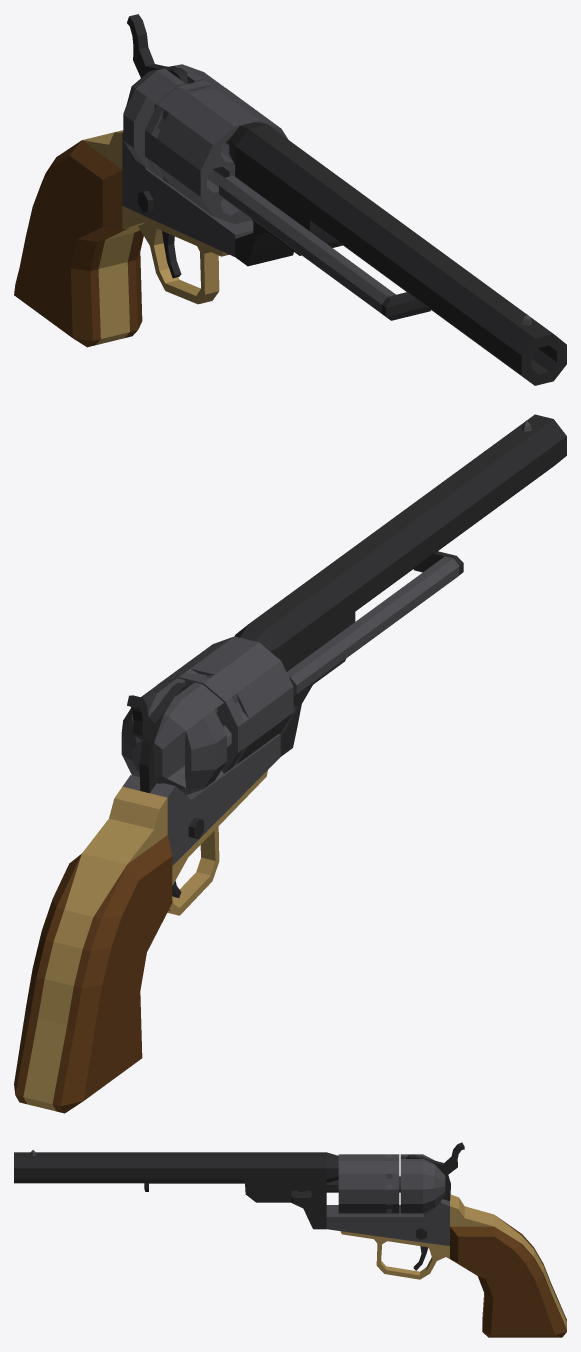
File: Navy.fbx
3 renders of one model, top to bottom at view 1: azimuth 30°, elevation 25°; view 2: azimuth 150°, elevation 25°; view 3: azimuth 270°, elevation 25°, orthographic. The views are drawn at different scales.
Parts seen in each view (by area): view 1: Grip, Barrel1, Cylinder, Barrel2, Rod, Assembly 1, Backstrap, Trigger Guard, Shield 2, Hammer, Trigger Guard 2, Stud (+3 smaller); view 2: Grip, Barrel1, Backstrap, Cylinder, Barrel2, Assembly 1, Rod, Shield 1, Shield 2, Hammer, Trigger Guard; view 3: Grip, Barrel1, Barrel2, Cylinder, Assembly 1, Backstrap, Shield 1, Trigger Guard, Shield 3, Hammer, Trigger Guard 2, Barrel3 (+1 smaller).
Boxes of the visible parts, <box> form: Grip: <box>14,140,143,347</box>; Barrel1: <box>310,179,566,385</box>; Cylinder: <box>145,80,288,224</box>; Barrel2: <box>235,124,342,266</box>; Rod: <box>219,175,395,315</box>; Assembly 1: <box>122,132,253,256</box>; Backstrap: <box>82,130,139,345</box>; Trigger Guard: <box>138,223,219,304</box>; Shield 2: <box>123,86,154,167</box>; Hammer: <box>127,14,188,84</box>; Trigger Guard 2: <box>122,205,228,256</box>; Stud: <box>381,292,430,320</box>; Grip: <box>14,835,172,1113</box>; Barrel1: <box>323,414,566,611</box>; Backstrap: <box>23,786,167,1111</box>; Cylinder: <box>157,636,293,773</box>; Barrel2: <box>249,569,355,756</box>; Assembly 1: <box>122,734,280,865</box>; Rod: <box>286,556,459,696</box>; Shield 1: <box>121,685,214,795</box>; Shield 2: <box>185,710,226,788</box>; Hammer: <box>127,682,187,793</box>; Trigger Guard: <box>167,826,219,915</box>; Grip: <box>450,1216,566,1337</box>; Barrel1: <box>14,1152,244,1183</box>; Barrel2: <box>245,1152,326,1229</box>; Cylinder: <box>338,1154,399,1214</box>; Assembly 1: <box>326,1199,449,1245</box>; Backstrap: <box>450,1194,566,1328</box>; Shield 1: <box>411,1154,445,1214</box>; Trigger Guard: <box>374,1239,445,1279</box>; Shield 3: <box>400,1154,411,1214</box>; Hammer: <box>406,1142,464,1201</box>; Trigger Guard 2: <box>340,1231,449,1258</box>; Barrel3: <box>326,1152,338,1182</box>.
Size of what is drawn, in the model's own units: 0.0371 by 0.126 by 0.336.
